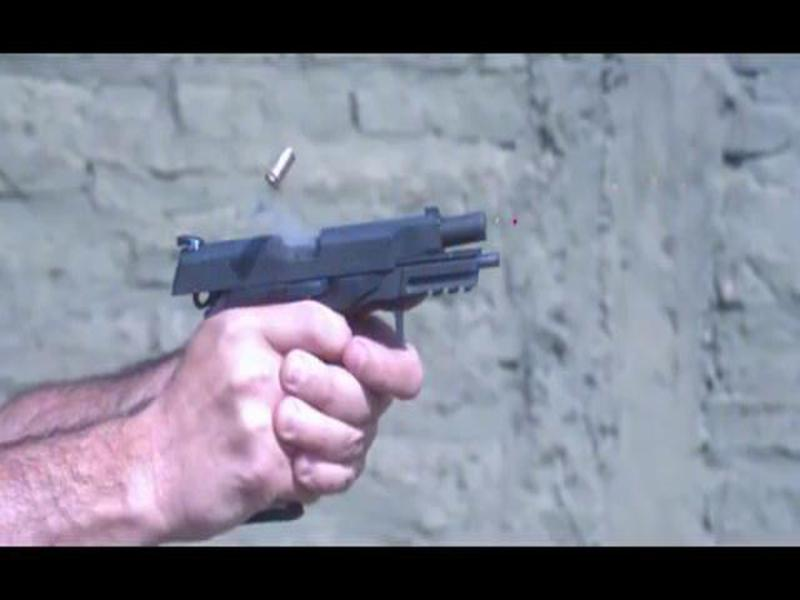Pistola: (164, 204, 506, 414)
